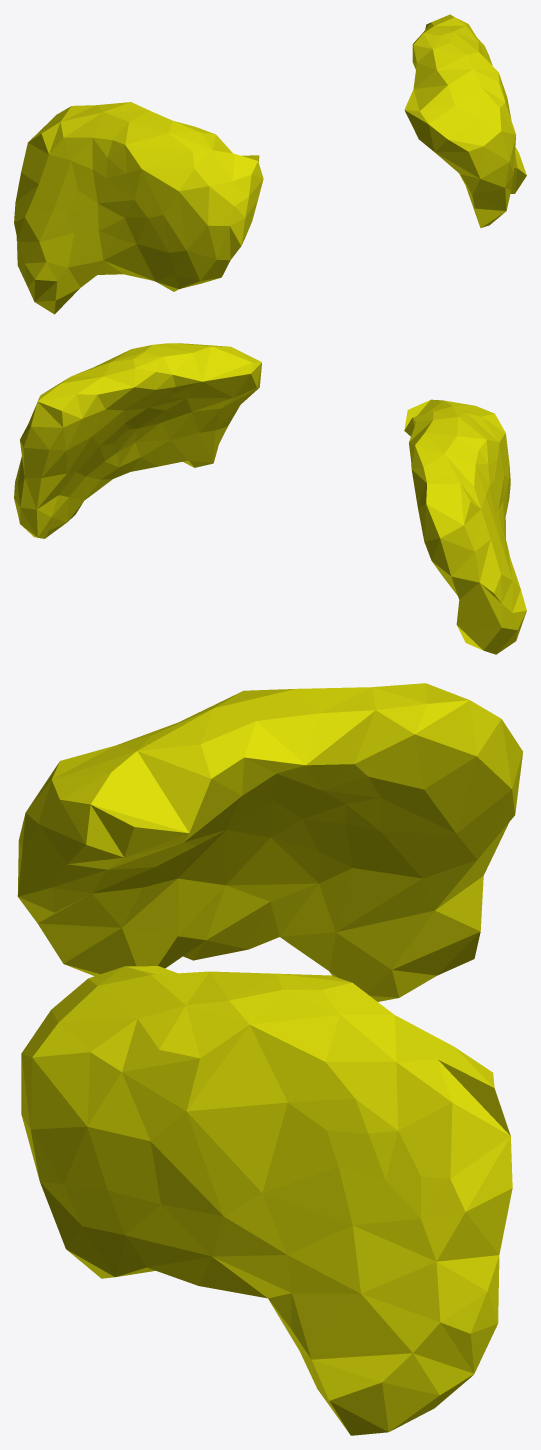
The model's file is 241-Cl-centrolateral thalamic nucleus-('1.0000', '1.0000', '0.0000').obj.
The picture shows the model from 3 angles, top to bottom: view 1: azimuth 30°, elevation 25°; view 2: azimuth 150°, elevation 25°; view 3: azimuth 270°, elevation 25°; orthographic projection. The views are drawn at different scales.
Bounding box in the file's own units: 77.69 × 28.99 × 34.55.
